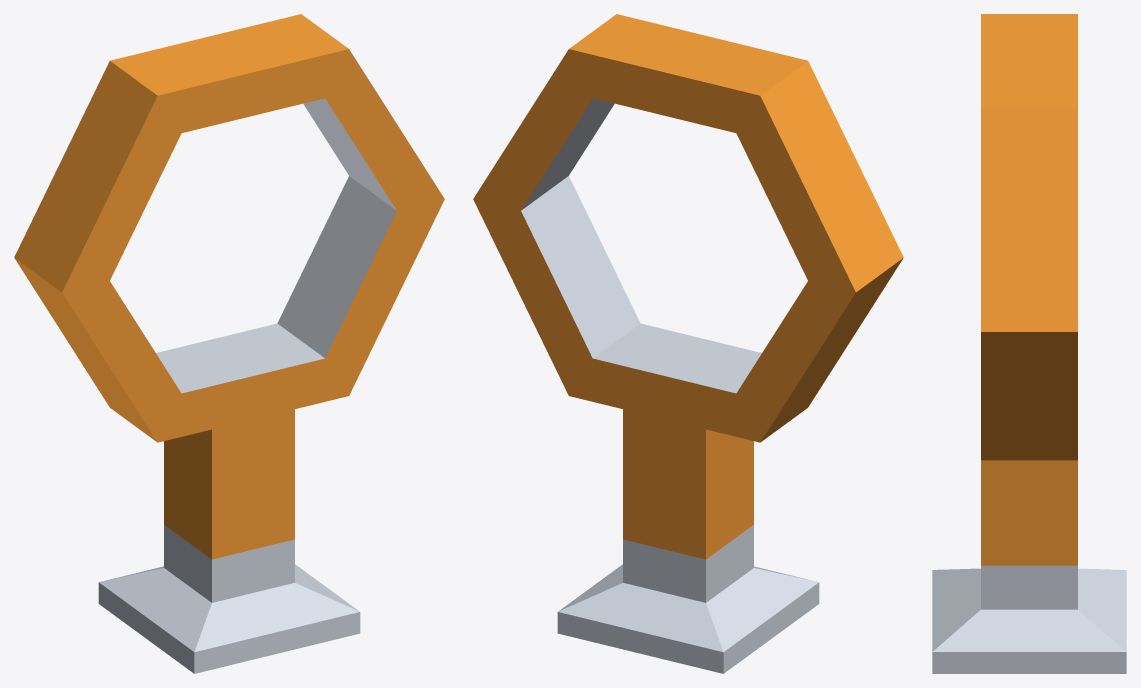
Rendered from pipe_ringSupport.glb.
3 renders of one model, left to right at view 1: azimuth 30°, elevation 25°; view 2: azimuth 150°, elevation 25°; view 3: azimuth 270°, elevation 25°, orthographic.
Parts seen in each view (by area): view 1: pipe_ringSupport; view 2: pipe_ringSupport; view 3: pipe_ringSupport.
Boxes of the visible parts, x1,y1,x2,y2 form: pipe_ringSupport: (14, 14, 444, 673); pipe_ringSupport: (473, 14, 903, 673); pipe_ringSupport: (932, 14, 1126, 673).
Size of the model in its own units: 0.9238 by 1.3 by 0.4.
